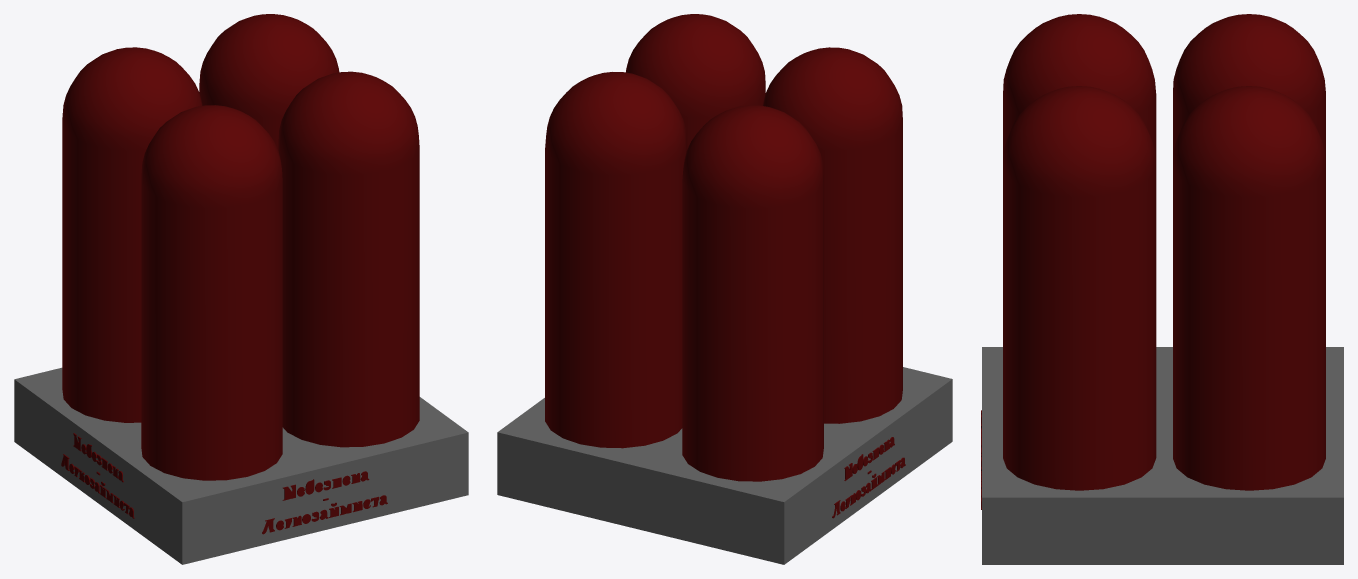
The model's file is Red Tanks.fbx.
3 renders of one model, left to right at view 1: azimuth 30°, elevation 25°; view 2: azimuth 150°, elevation 25°; view 3: azimuth 270°, elevation 25°, orthographic. The views are drawn at different scales.
Visible parts, largest first — view 1: pSphere8; view 2: pSphere8; view 3: pSphere8.
Part boxes in pixels (left/top/right/bottom): pSphere8: left=14, top=14, right=468, bottom=564; pSphere8: left=497, top=14, right=952, bottom=564; pSphere8: left=981, top=14, right=1343, bottom=564.
Size of the model in its own units: 8.28 by 11.06 by 8.41.
